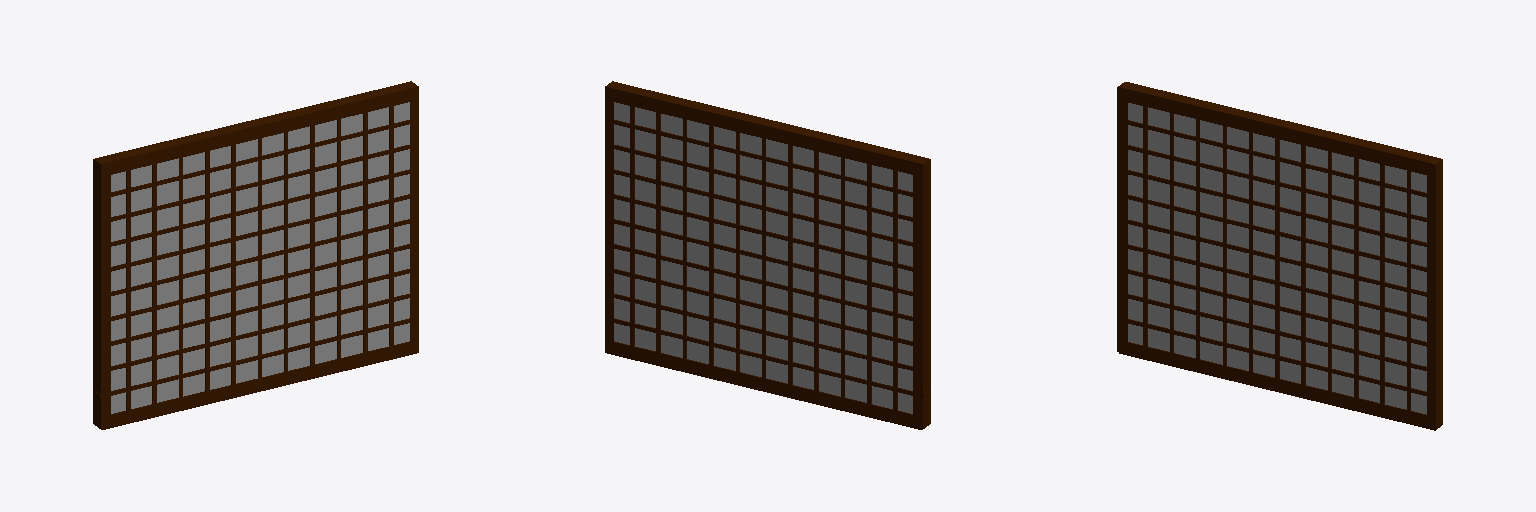
Rendered from door-out.obj.
3 views of the same model, side by side, from view 1: azimuth 30°, elevation 25°; view 2: azimuth 150°, elevation 25°; view 3: azimuth 330°, elevation 25° (orthographic).
Visible parts, largest first — view 1: Cube.024; view 2: Cube.024; view 3: Cube.024.
Boxes of the visible parts, box(x1,y1,x2,y2) form: Cube.024: box(93, 81, 418, 429); Cube.024: box(605, 81, 930, 429); Cube.024: box(1117, 82, 1442, 430).
Bounding box in the file's own units: 10.08 × 8.05 × 0.4.